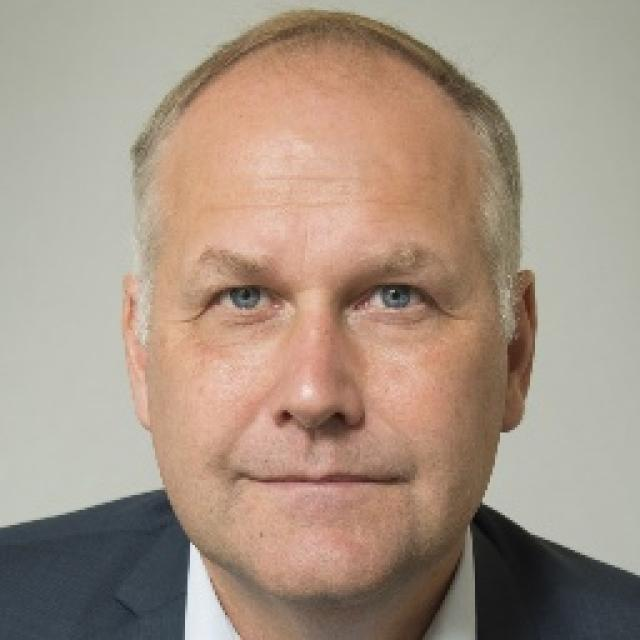earlobe: (500, 268, 540, 435), (121, 274, 153, 432)
